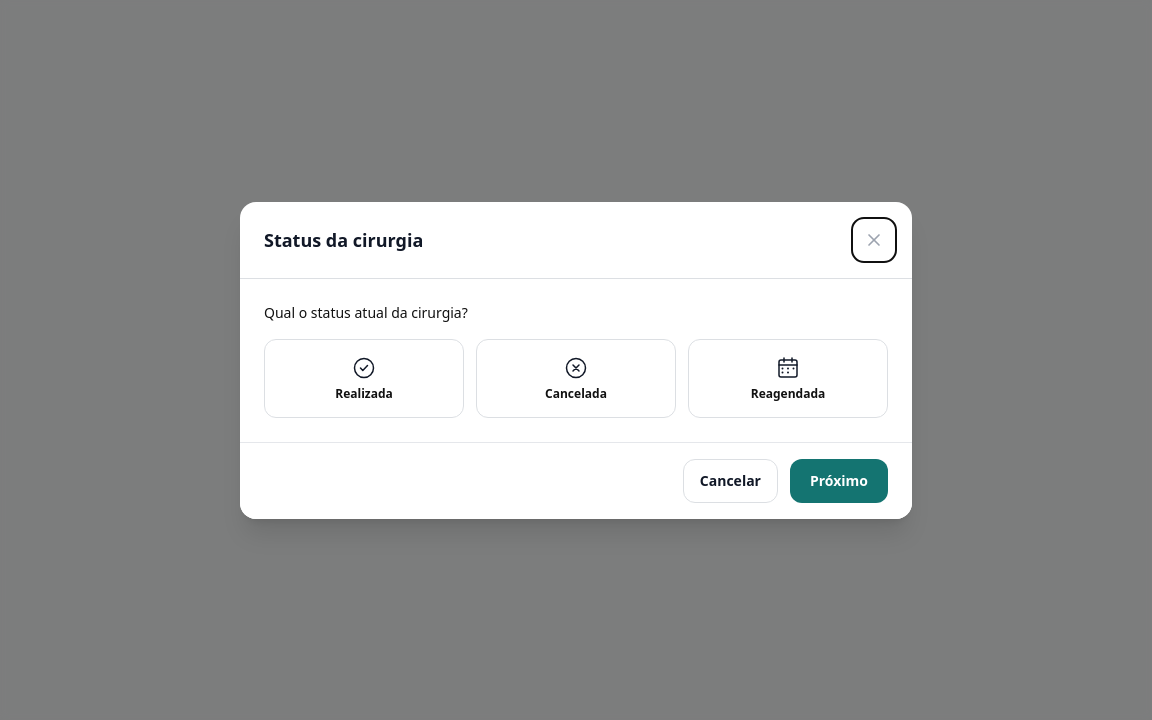
Test: SurgeryStatusModal › fecha com Esc e volta para a primeira etapa ao reabrir
Click the button "Cancelada". click: coordinates (576, 378)
box: [476,338,676,418]
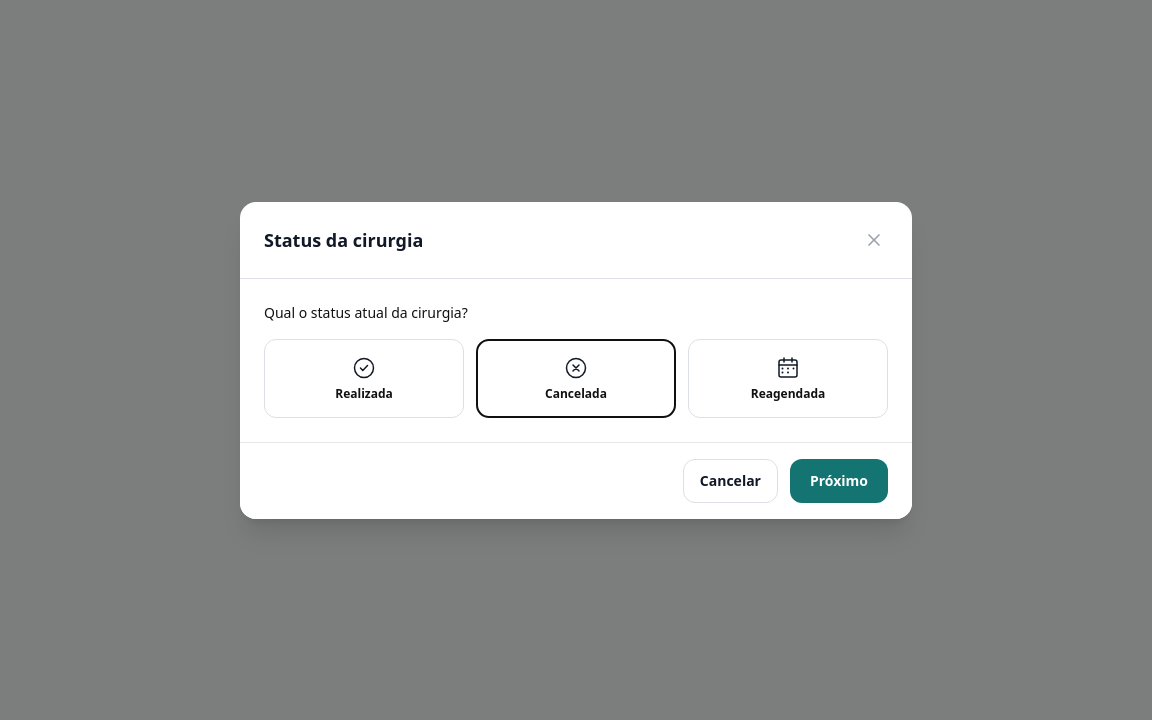
Click the button "Próximo". click: coordinates (839, 480)
box: [790,458,888,502]
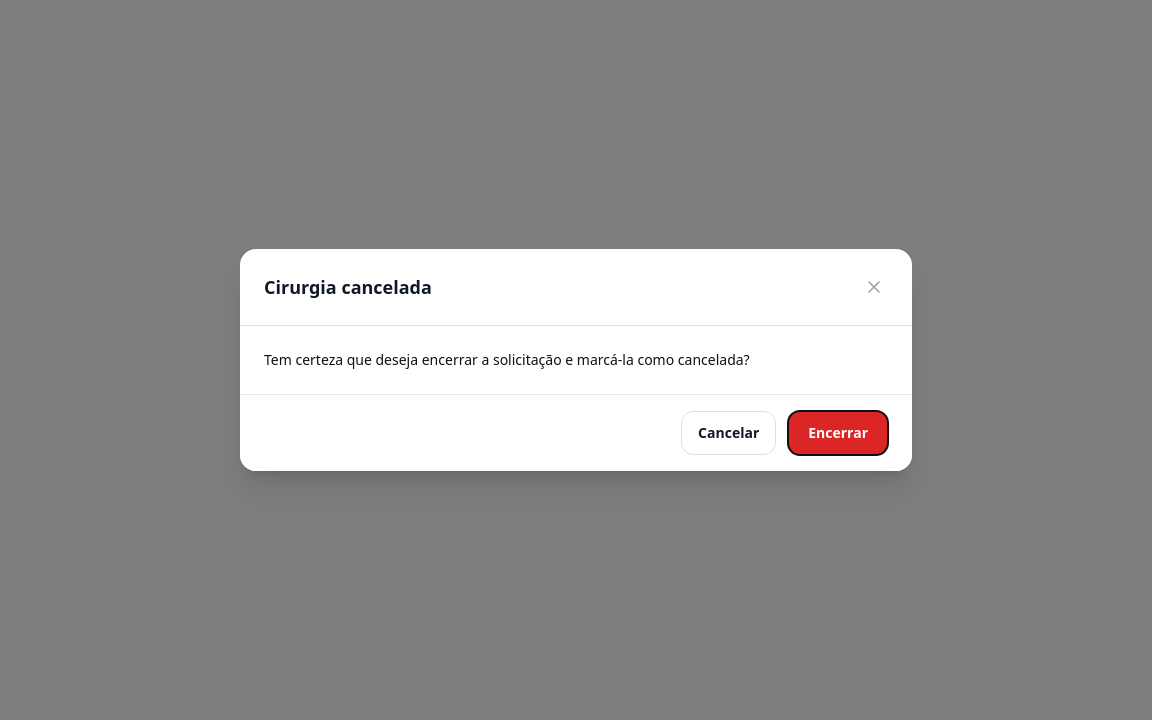
Press Escape
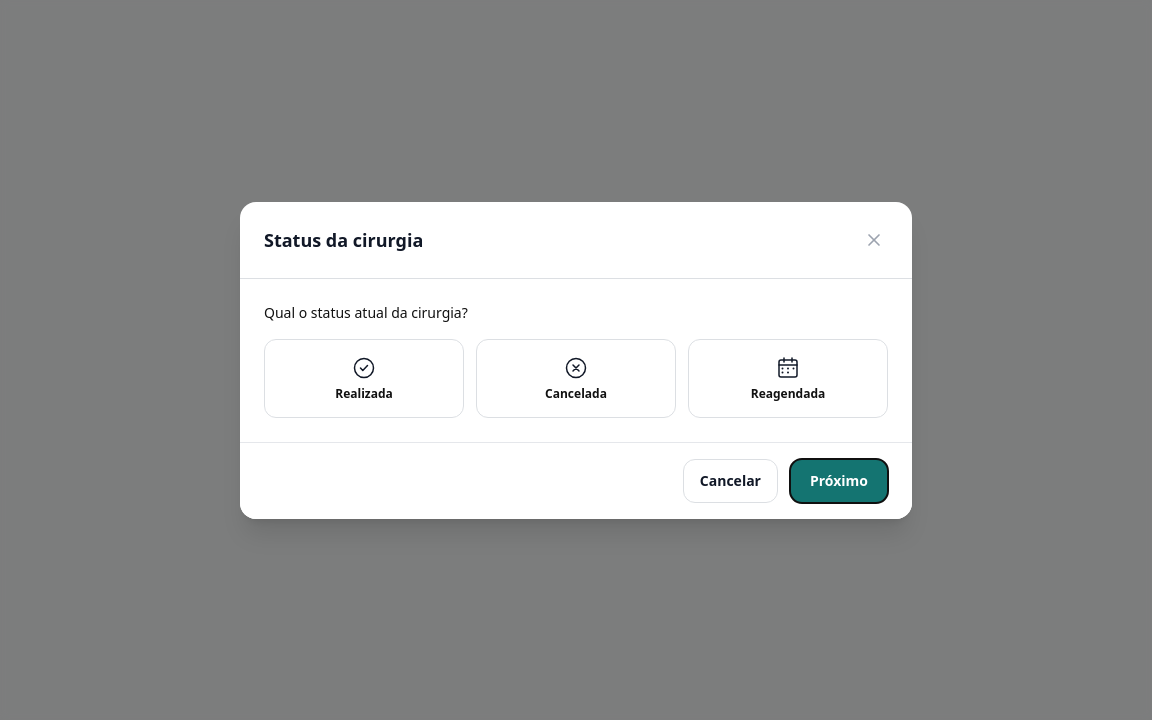
Expected: the dialog "Status da cirurgia" is shown, [240,202,912,518]
